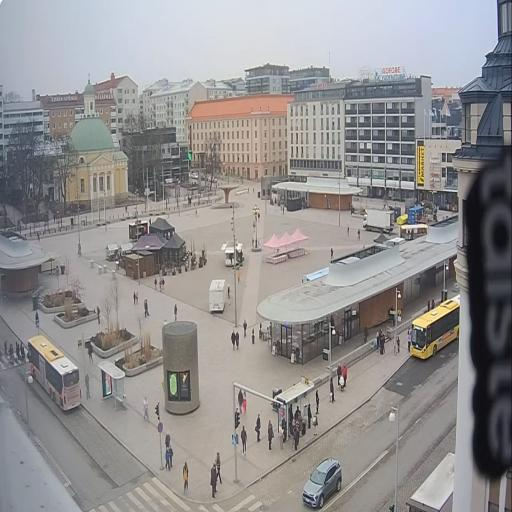bus: (26, 331, 85, 413), (405, 294, 460, 365)
car: (300, 455, 344, 508), (208, 173, 218, 185), (191, 173, 199, 179), (200, 174, 206, 181)
delivery: (361, 208, 396, 236)
